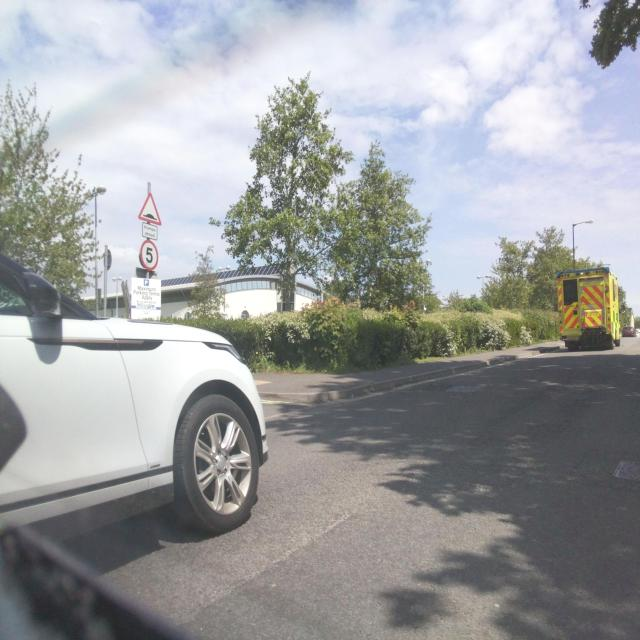car: (0, 233, 270, 563), (622, 325, 635, 337)
